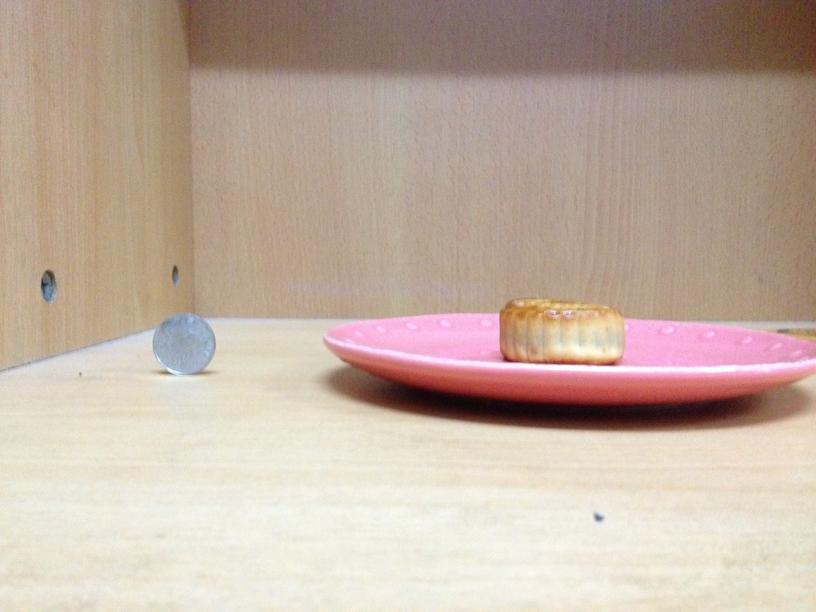coin: (152, 315, 213, 374)
mooncake: (496, 296, 626, 364)
